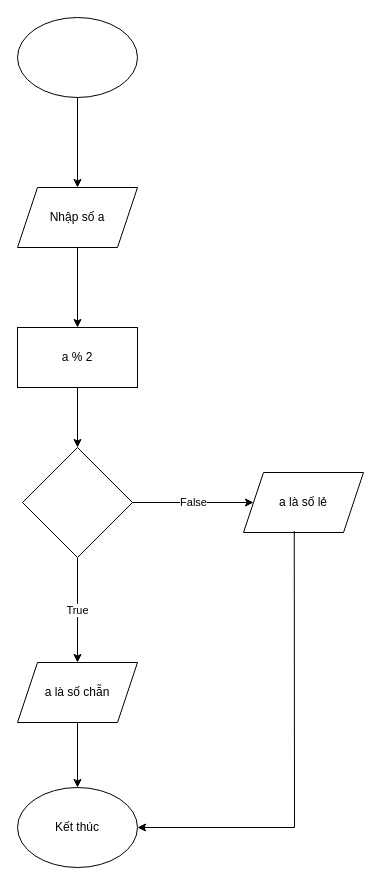
Some shapes in this 381 by 885 pixel diagram are drawn without their labels. The shapes that lost their labels are listed below. From the top down, each one's centre as x and y in pixels, then its label:
At point 77,57: "Bắt đầu".
At point 77,502: "a % 2 == 0".
